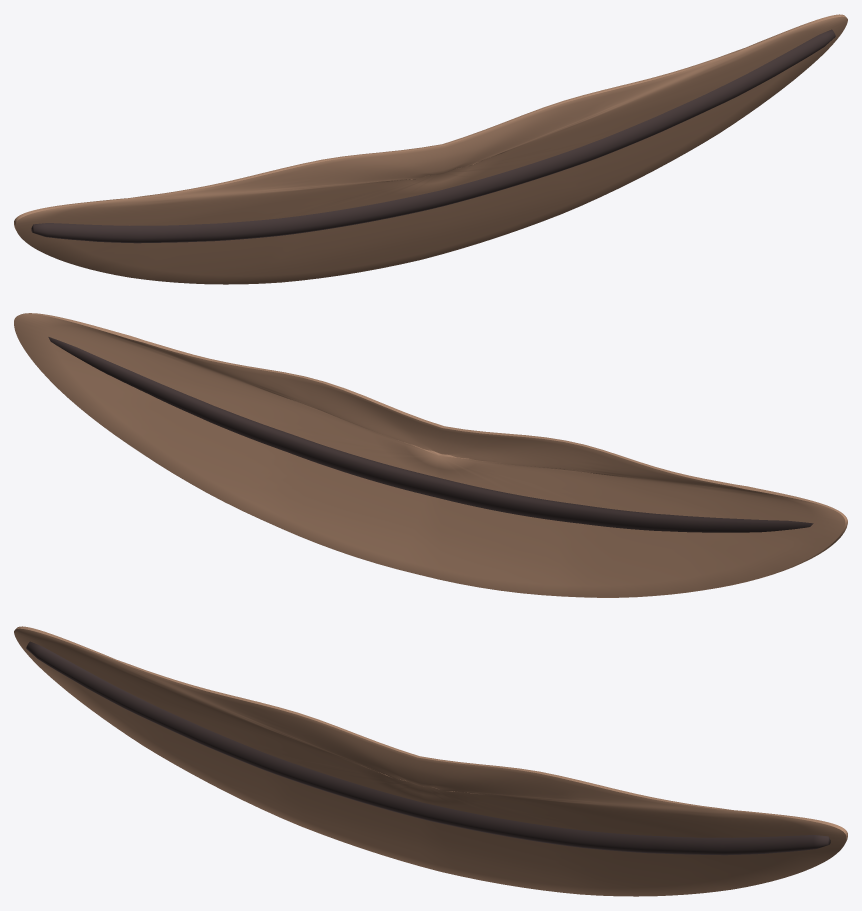
Rendered from Masculine-mouth-lips.glb.
3 views of the same model, one above another, from view 1: azimuth 30°, elevation 25°; view 2: azimuth 150°, elevation 25°; view 3: azimuth 330°, elevation 25° (orthographic).
Visible parts, largest first — view 1: Face / closed mouth182, Face / closed seam182; view 2: Face / closed mouth182, Face / closed seam182; view 3: Face / closed mouth182, Face / closed seam182.
Boxes of the visible parts, left/top/right/bottom form: Face / closed mouth182: left=14, top=14, right=847, bottom=284; Face / closed seam182: left=31, top=29, right=835, bottom=243; Face / closed mouth182: left=14, top=313, right=847, bottom=597; Face / closed seam182: left=48, top=337, right=813, bottom=532; Face / closed mouth182: left=14, top=626, right=847, bottom=896; Face / closed seam182: left=26, top=641, right=830, bottom=855.
Size of the model in its own units: 0.1564 by 0.0279 by 0.00867.
